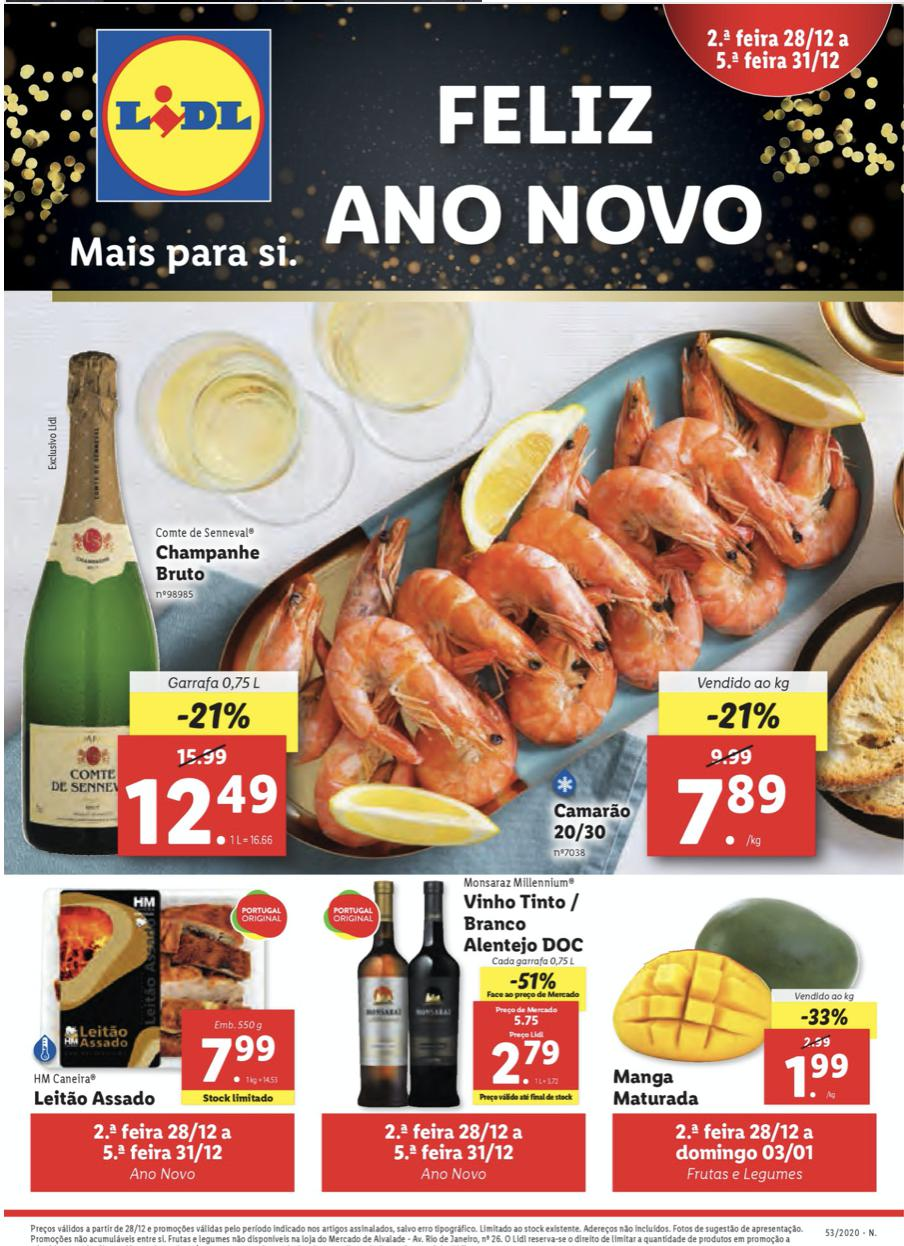name: (458, 888, 592, 958), (150, 544, 264, 585), (612, 1068, 707, 1110), (32, 1082, 161, 1110), (550, 801, 633, 842)
price: (124, 770, 281, 858), (676, 774, 790, 848), (783, 1050, 861, 1105), (203, 1033, 278, 1090), (490, 1033, 564, 1087)
product: (478, 367, 844, 864), (13, 419, 306, 858), (323, 864, 613, 1113), (24, 881, 309, 1107), (603, 890, 886, 1113)
promotion: (176, 693, 253, 731), (707, 696, 789, 731)
